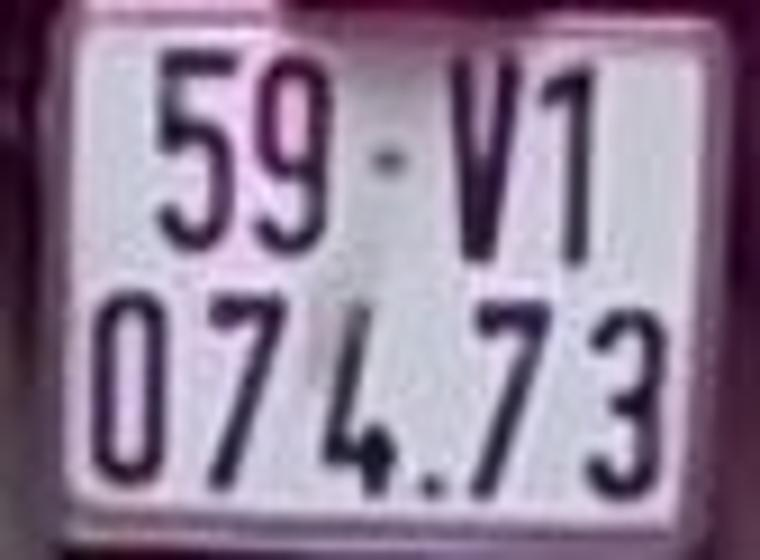-: (367, 149, 411, 179)
.: (418, 471, 446, 504)
0: (88, 288, 170, 485)
1: (541, 63, 593, 261)
3: (584, 303, 664, 502)
4: (324, 311, 397, 506)
5: (158, 42, 231, 254)
7: (196, 289, 286, 492), (467, 296, 552, 505)
9: (251, 57, 328, 253)
V: (452, 48, 519, 263)
